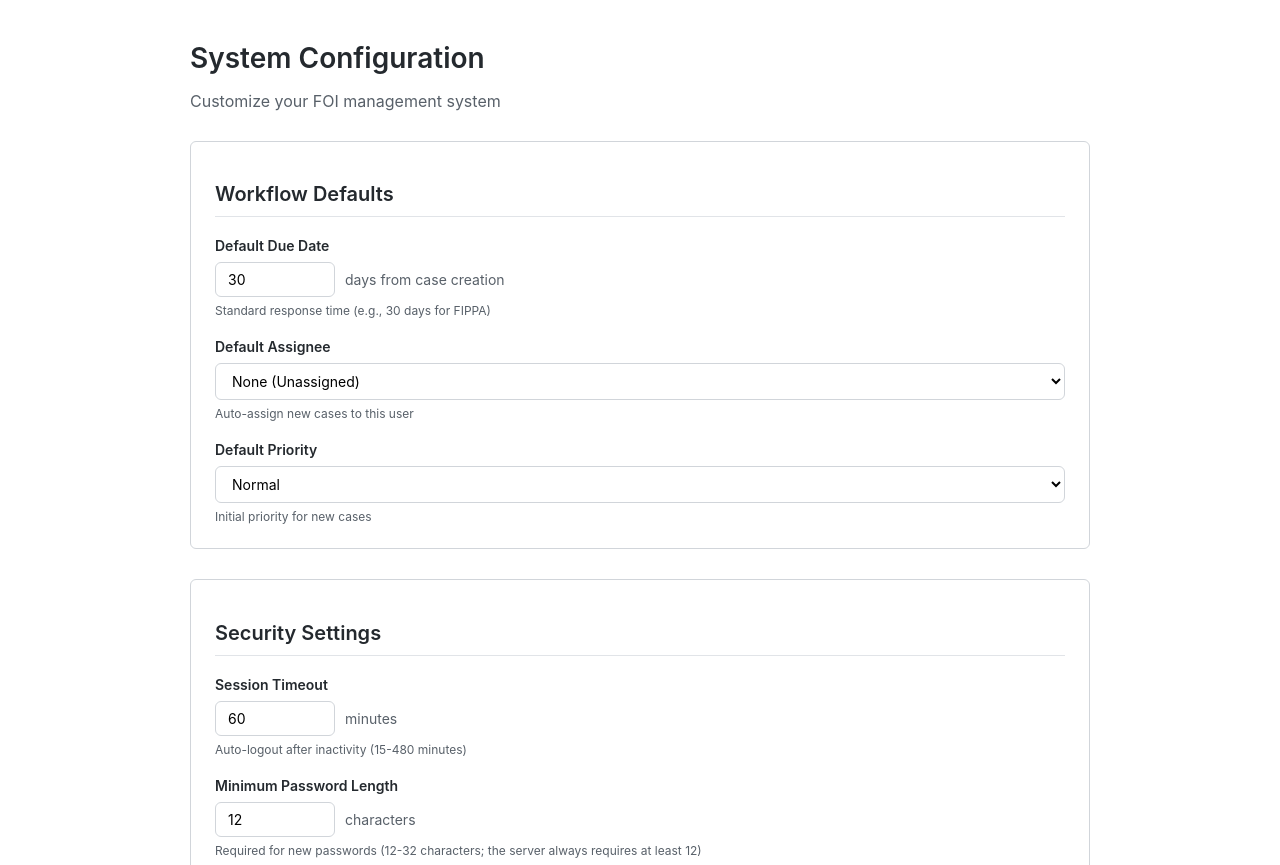
Test: SystemConfiguration › edits a field and saves successfully
Replace the text in the number field labelled "Default Due Date" with "45": (275, 280) [215, 262, 335, 297]
(page scrolled)
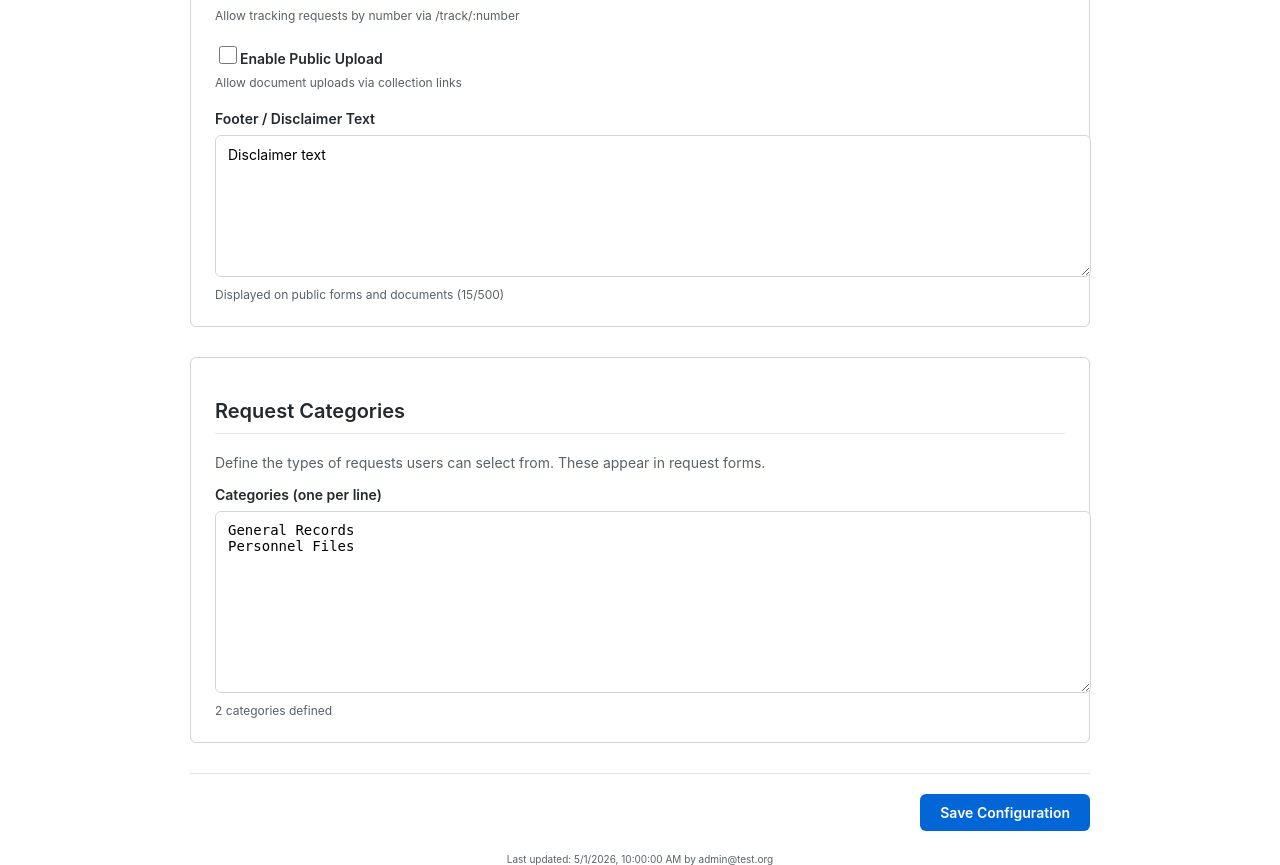
Click the button "Save Configuration": (1005, 812) [920, 794, 1090, 831]
(page scrolled)
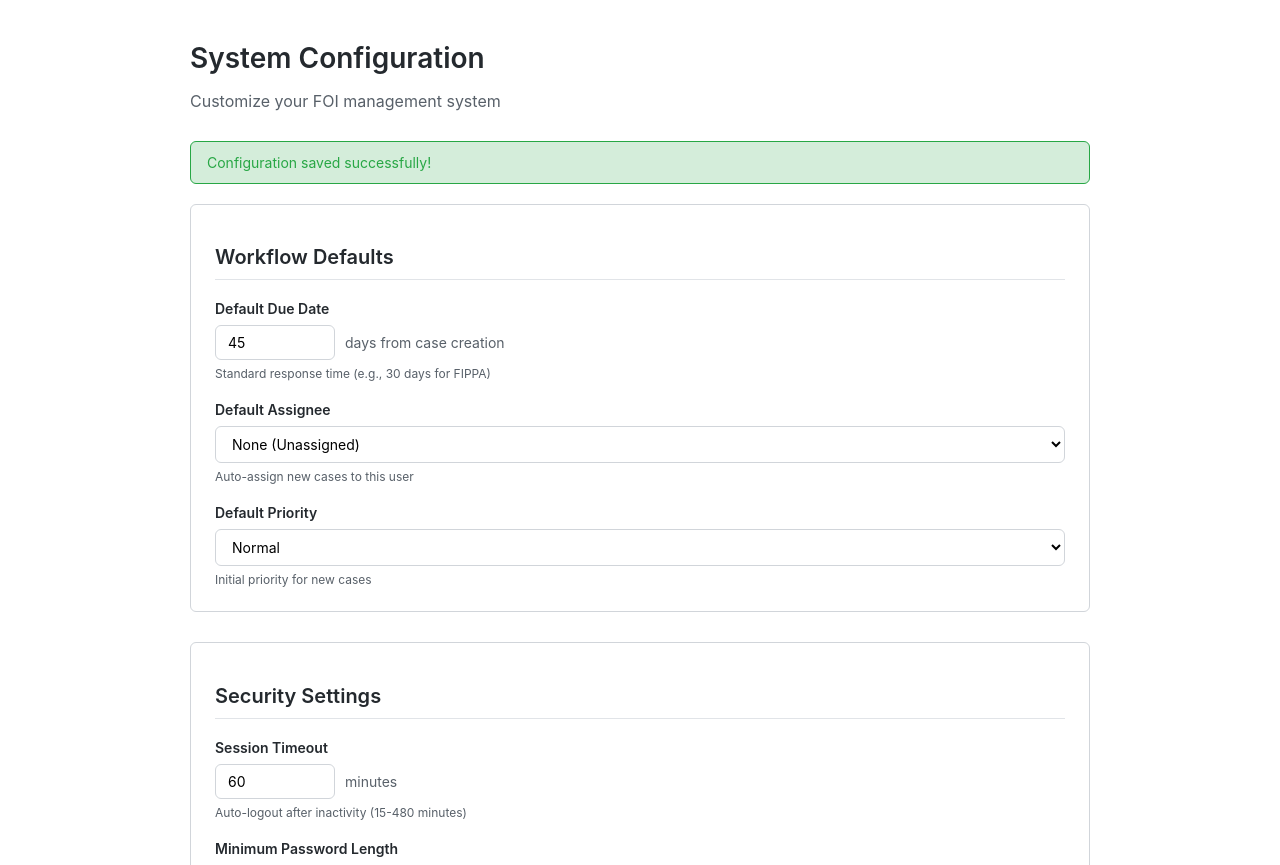
Expected: the text "Configuration saved successfully!" is shown, [190, 141, 1090, 184]
